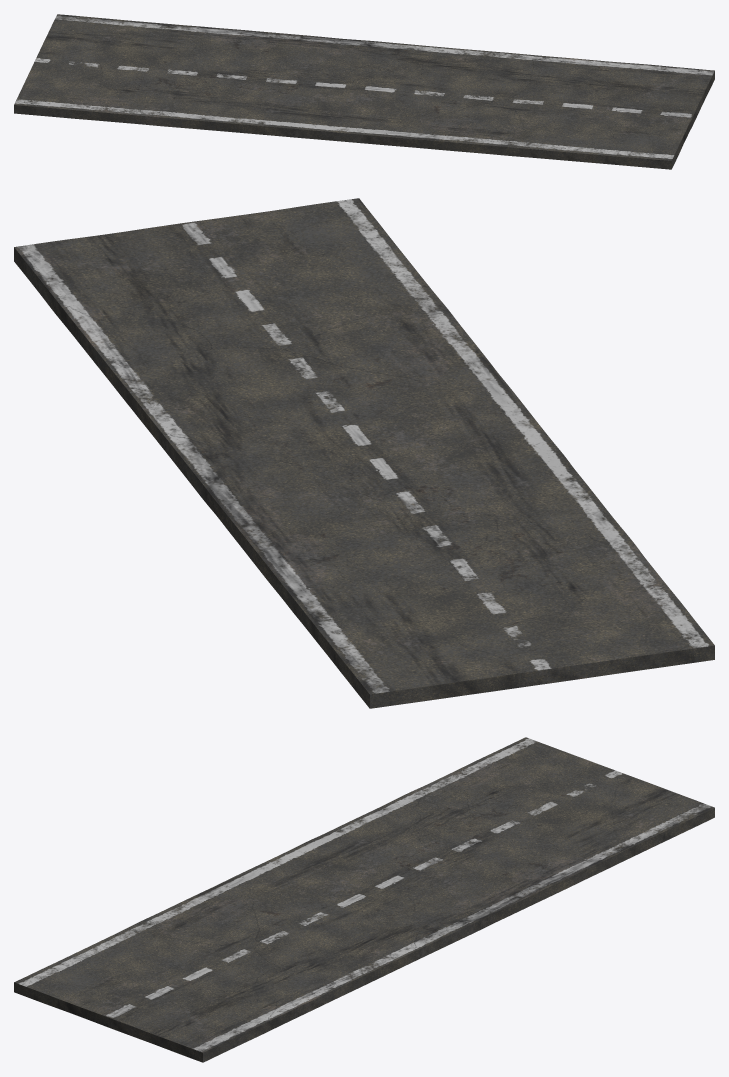
Rendered from highway_road.glb.
The picture shows the model from 3 angles, top to bottom: view 1: azimuth 30°, elevation 25°; view 2: azimuth 150°, elevation 25°; view 3: azimuth 270°, elevation 25°; orthographic projection. The views are drawn at different scales.
Bounding box in the file's own units: 21.95 × 0.3364 × 20.6.
1 material, 1 textured.
